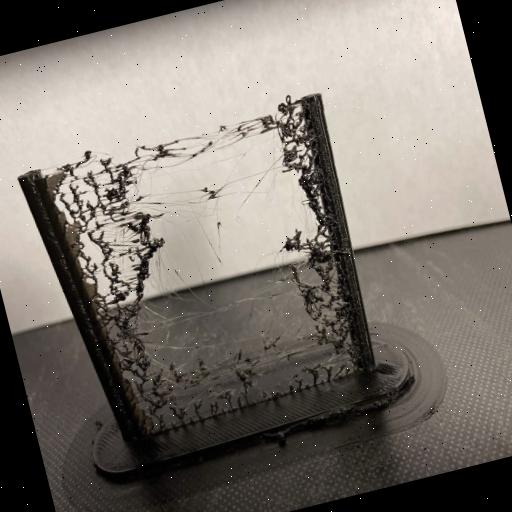stringing: (40, 99, 372, 442)
